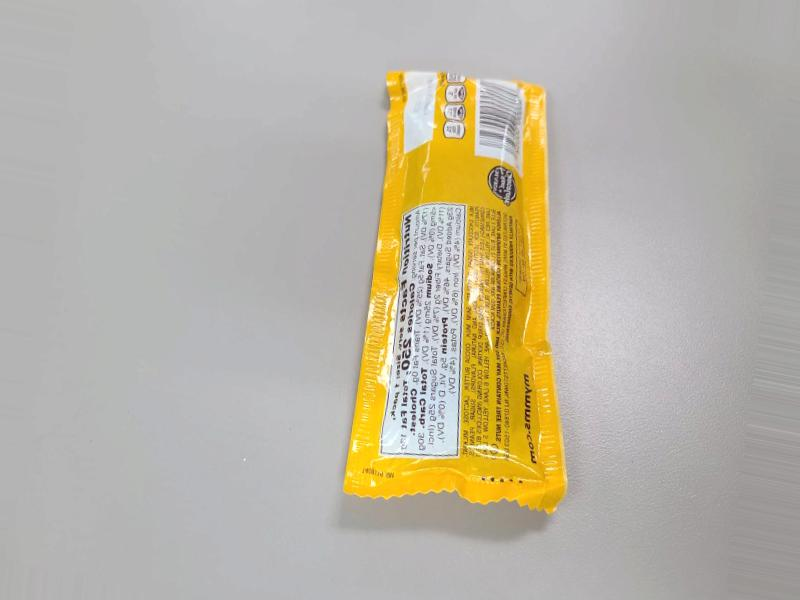m&m: (348, 74, 551, 509)
